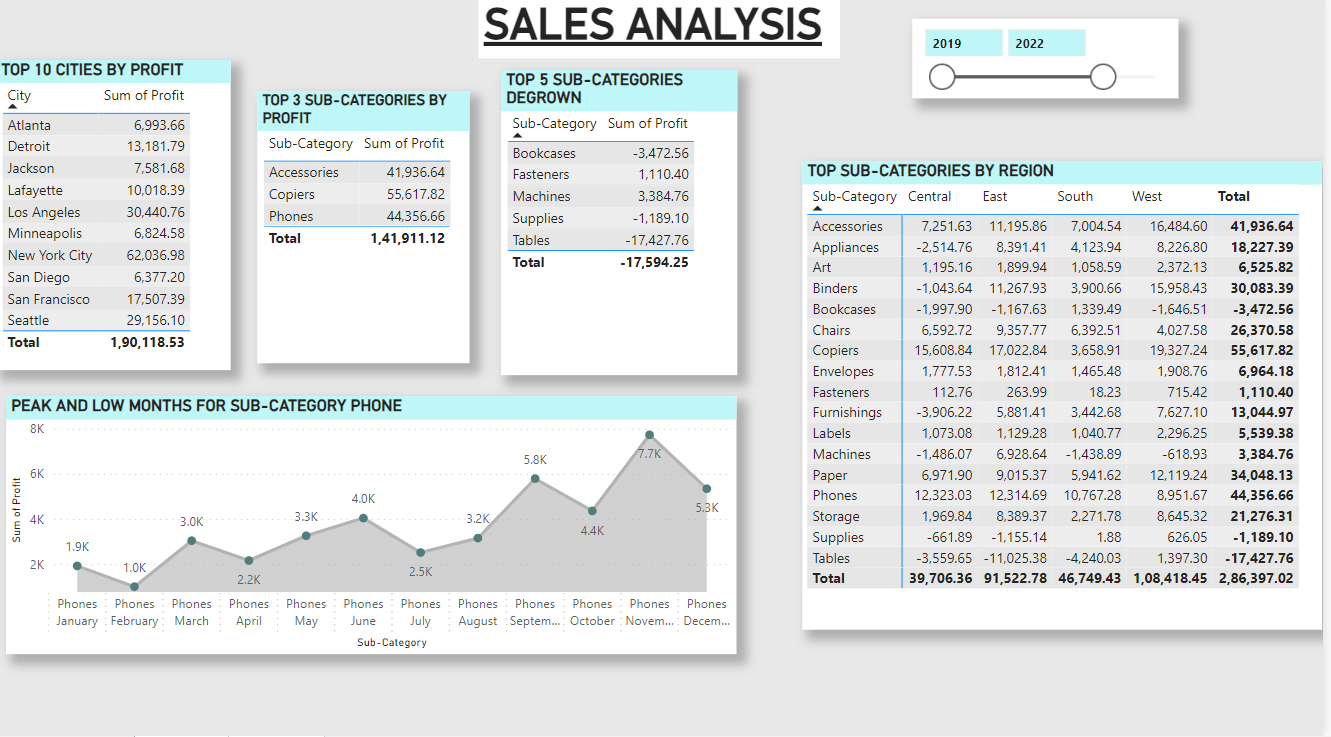

What the dashboard file says about the page in this screenshot:
{"tool":"powerbi","page":{"name":"Page 1","canvas":[1280,720],"ordinal":0},"visuals":[{"type":"slicer","fields":{"Values":["Monthly Sales Data.Order Date.Variation.Date Hierarchy.Year"]},"box":[884.4,27.8,256.7,76.7],"z":0},{"type":"tableEx","title":"TOP 10 CITIES BY PROFIT","fields":{"Values":["Monthly Sales Data.City","Sum(Monthly Sales Data.Profit)"]},"box":[0,67.8,226.7,298.9],"z":1000},{"type":"tableEx","title":"TOP 3 SUB-CATEGORIES BY PROFIT","fields":{"Values":["Monthly Sales Data.Sub-Category","Sum(Monthly Sales Data.Profit)"]},"box":[252.2,97.8,204.4,262.2],"z":2000},{"type":"tableEx","title":"TOP 5 SUB-CATEGORIES DEGROWN","fields":{"Values":["Monthly Sales Data.Sub-Category","Sum(Monthly Sales Data.Profit)"]},"box":[486.7,76.7,227.8,294.4],"z":3000},{"type":"areaChart","title":"PEAK AND LOW MONTHS FOR SUB-CATEGORY PHONE","fields":{"Y":["Sum(Monthly Sales Data.Profit)"],"Category":["Monthly Sales Data.Order Date.Variation.Date Hierarchy.Month","Monthly Sales Data.Sub-Category"]},"box":[10,392.2,704.4,248.9],"z":4000},{"type":"pivotTable","title":"TOP SUB-CATEGORIES BY REGION","fields":{"Rows":["Monthly Sales Data.Sub-Category"],"Columns":["Monthly Sales Data.Region","Monthly Sales Data.Profit"],"Values":["Sum(Monthly Sales Data.Profit)"]},"box":[777.9,165.2,501.7,452.3],"z":5000},{"type":"textbox","title":"SALES ANALYSIS","box":[465.6,8.9,348.9,57.8],"z":6000}]}

Visuals, with their boxes in screenshot pixels (x1, y1, x2, y2), scaled from the page's 1280x720 canvas onto the 1331x737 screenshot:
slicer - Monthly Sales Data.Order Date.Variation.Date Hierarchy.Year: [left=920, top=28, right=1187, bottom=107]
"TOP 10 CITIES BY PROFIT" tableEx: [left=0, top=69, right=236, bottom=375]
"TOP 3 SUB-CATEGORIES BY PROFIT" tableEx: [left=262, top=100, right=475, bottom=368]
"TOP 5 SUB-CATEGORIES DEGROWN" tableEx: [left=506, top=79, right=743, bottom=380]
"PEAK AND LOW MONTHS FOR SUB-CATEGORY PHONE" areaChart: [left=10, top=401, right=743, bottom=656]
"TOP SUB-CATEGORIES BY REGION" pivotTable: [left=809, top=169, right=1330, bottom=632]
"SALES ANALYSIS" textbox: [left=484, top=9, right=847, bottom=68]
